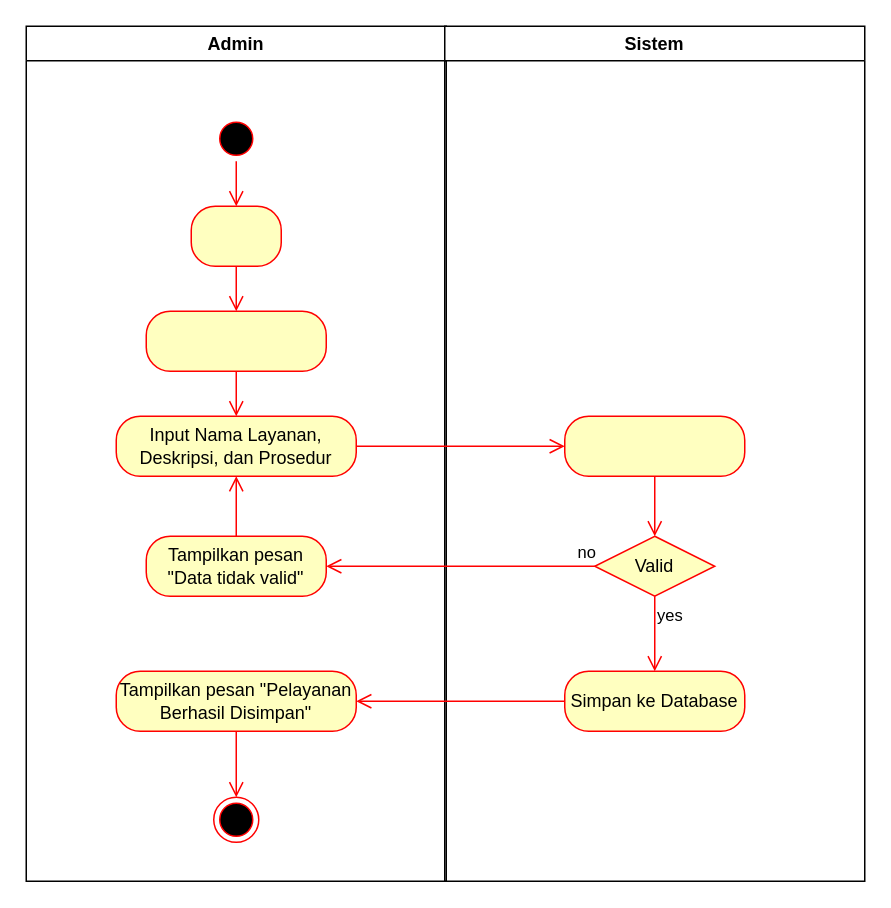
This 891x908 diagram has some shape labels left out. Each missing label, with the centre of its shape:
"Buka menu Pelayanan" goes at [235,340].
"Cek data Pelayanan" goes at [654,445].
"Login" goes at [235,235].
